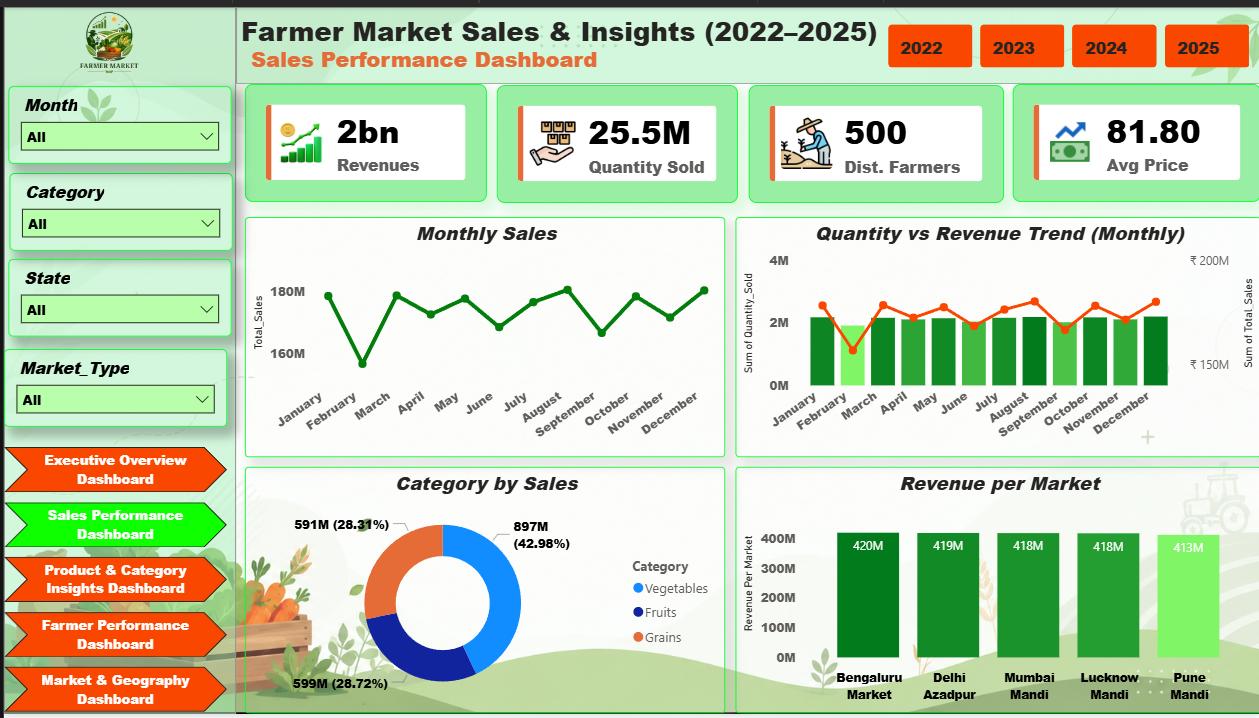

Layout of this report page (visuals, bound fields, positions):
{"tool":"powerbi","page":{"name":" Sales Performance Dashboard","canvas":[1280,720],"ordinal":1},"visuals":[{"type":"shape","box":[0,0,236.3,720.2],"z":0},{"type":"shape","box":[236.3,0,1044,78.4],"z":1000},{"type":"textbox","box":[236.3,0,671,59.4],"z":2000},{"type":"textbox","box":[246.4,32.5,405.5,48.2],"z":3000},{"type":"image","box":[57.1,0,99.7,78.4],"z":4000},{"type":"cardVisual","fields":{"Data":["Sum(farmmarket_Dataset.Quantity_Sold)"]},"box":[501.8,79.5,245.3,119.9],"z":5000},{"type":"cardVisual","fields":{"Data":["Count(farmmarket_Dataset.Farmer_ID)"]},"box":[758.3,79.5,259.9,119.9],"z":6000},{"type":"cardVisual","fields":{"Data":["Avg(farmmarket_Dataset.Unit_Price)"]},"box":[1027.2,78.4,253.2,119.9],"z":7000},{"type":"cardVisual","fields":{"Data":["Sum(farmmarket_Dataset.Total_Sales)"]},"box":[245.3,78.4,246.4,119.9],"z":8000},{"type":"slicer","fields":{"Values":["farmmarket_Dataset.Category"]},"box":[5.6,169.1,227.4,79.5],"z":9000},{"type":"slicer","fields":{"Values":["farmmarket_Dataset.Date.Variation.Date Hierarchy.Month"]},"box":[4.5,80.6,227.4,79.5],"z":10000},{"type":"slicer","fields":{"Values":["farmmarket_Dataset.State"]},"box":[4.5,256.5,227.4,79.5],"z":11000},{"type":"lineChart","title":"Monthly Sales","fields":{"Category":["farmmarket_Dataset.Date.Variation.Date Hierarchy.Month"],"Y":["Sum(farmmarket_Dataset.Total_Sales)"]},"box":[245.3,213.9,489.5,244.2],"z":12000},{"type":"donutChart","title":"Category by Sales","fields":{"Y":["Sum(farmmarket_Dataset.Total_Sales)"],"Category":["farmmarket_Dataset.Category"]},"box":[245.3,468.2,489.5,250.9],"z":13000},{"type":"columnChart","title":"Revenue per Market","fields":{"Category":["farmmarket_Dataset.Market_Name"],"Y":["farmmarket_Dataset.Revenue Per Market"]},"box":[744.6,468.2,535.4,250.9],"z":14000},{"type":"lineClusteredColumnComboChart","title":"Quantity vs Revenue Trend (Monthly)","fields":{"Category":["farmmarket_Dataset.Date.Variation.Date Hierarchy.Month"],"Y2":["Sum(farmmarket_Dataset.Total_Sales)"],"Y":["Sum(farmmarket_Dataset.Quantity_Sold)"]},"box":[744.9,213.9,535.4,244.2],"z":15000},{"type":"advancedSlicerVisual","fields":{"Values":["farmmarket_Dataset.Date.Variation.Date Hierarchy.Year"]},"box":[895,12.3,379.7,54.9],"z":16000},{"type":"pageNavigator","box":[0,447.8,227.4,272.2],"z":17000},{"type":"slicer","fields":{"Values":["farmmarket_Dataset.Market_Type"]},"box":[0,348.4,227.4,79.5],"z":18000}]}

Visuals, with their boxes in screenshot pixels (x1, y1, x2, y2), scaled from the page's 1280x720 canvas onto the 1259x718 screenshot:
shape: 0:0:232:717
shape: 232:0:1258:78
textbox: 232:0:892:59
textbox: 242:32:641:80
image: 56:0:154:78
cardVisual - Sum(farmmarket_Dataset.Quantity_Sold): 494:79:735:199
cardVisual - Count(farmmarket_Dataset.Farmer_ID): 746:79:1001:199
cardVisual - Avg(farmmarket_Dataset.Unit_Price): 1010:78:1258:198
cardVisual - Sum(farmmarket_Dataset.Total_Sales): 241:78:484:198
slicer - farmmarket_Dataset.Category: 6:169:229:248
slicer - farmmarket_Dataset.Date.Variation.Date Hierarchy.Month: 4:80:228:160
slicer - farmmarket_Dataset.State: 4:256:228:335
"Monthly Sales" lineChart: 241:213:723:457
"Category by Sales" donutChart: 241:467:723:717
"Revenue per Market" columnChart: 732:467:1258:717
"Quantity vs Revenue Trend (Monthly)" lineClusteredColumnComboChart: 733:213:1258:457
advancedSlicerVisual - farmmarket_Dataset.Date.Variation.Date Hierarchy.Year: 880:12:1254:67
pageNavigator: 0:447:224:717
slicer - farmmarket_Dataset.Market_Type: 0:347:224:427
